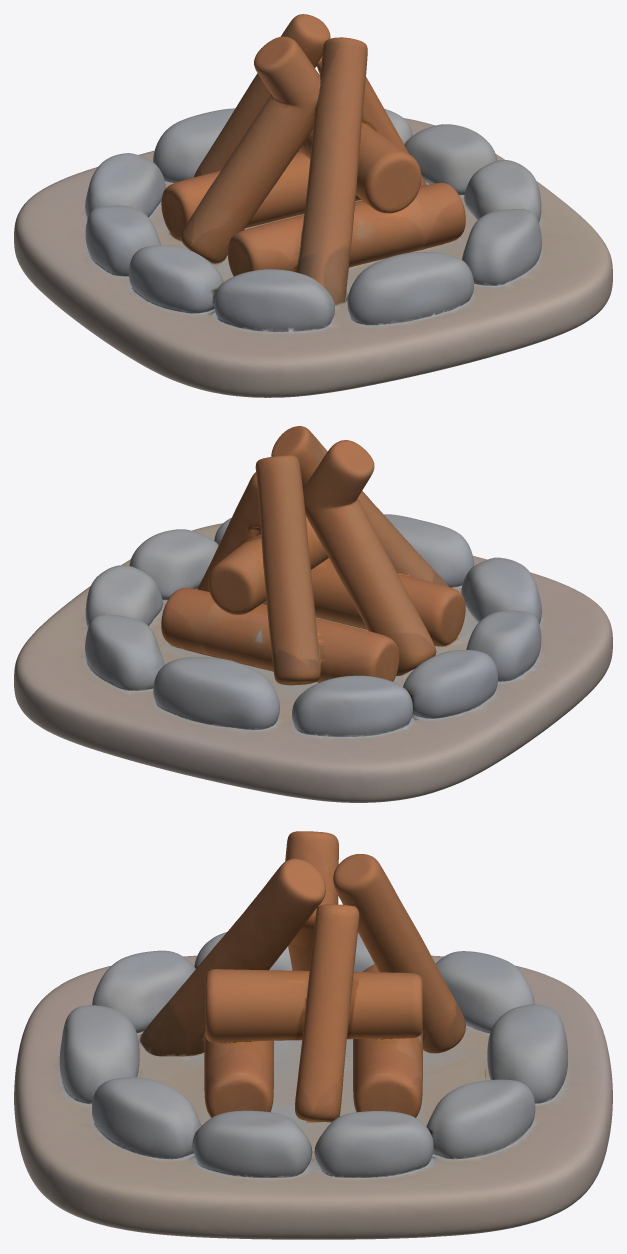
Rendered from CampFirepit.glb.
3 renders of one model, top to bottom at view 1: azimuth 30°, elevation 25°; view 2: azimuth 150°, elevation 25°; view 3: azimuth 270°, elevation 25°, orthographic. The views are drawn at different scales.
Visible parts, largest first — view 1: tripo_node_976c9855-6679-4a55-ab7e-068cd8bbbe2d; view 2: tripo_node_976c9855-6679-4a55-ab7e-068cd8bbbe2d; view 3: tripo_node_976c9855-6679-4a55-ab7e-068cd8bbbe2d.
Part boxes in pixels (box(x1,y1,x2,y2)): tripo_node_976c9855-6679-4a55-ab7e-068cd8bbbe2d: box(14, 14, 612, 397); tripo_node_976c9855-6679-4a55-ab7e-068cd8bbbe2d: box(14, 426, 612, 802); tripo_node_976c9855-6679-4a55-ab7e-068cd8bbbe2d: box(14, 831, 612, 1239).
Bounding box in the file's own units: 1 × 0.5398 × 0.9985.
Materials: 1 (1 with a texture image).
